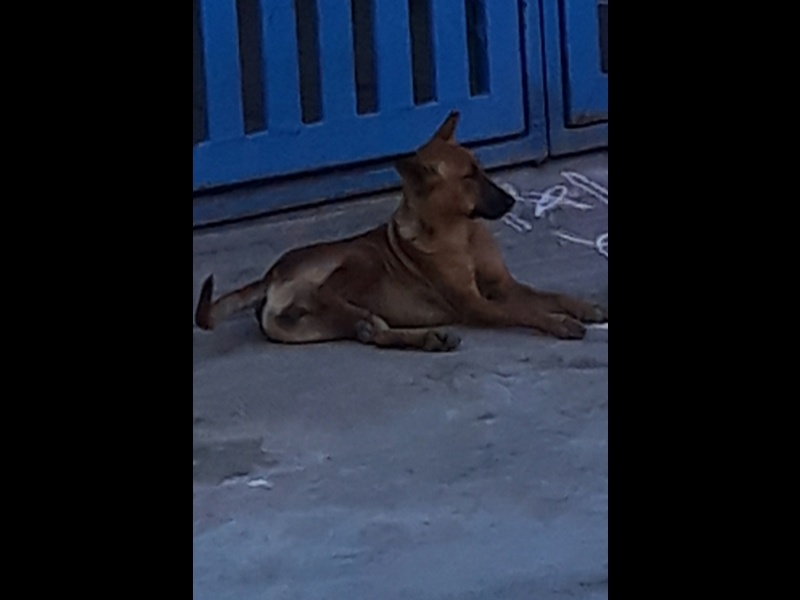dog: (203, 120, 597, 351)
